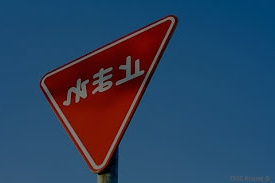Regulatory_sign_triangle: (37, 15, 176, 174)
